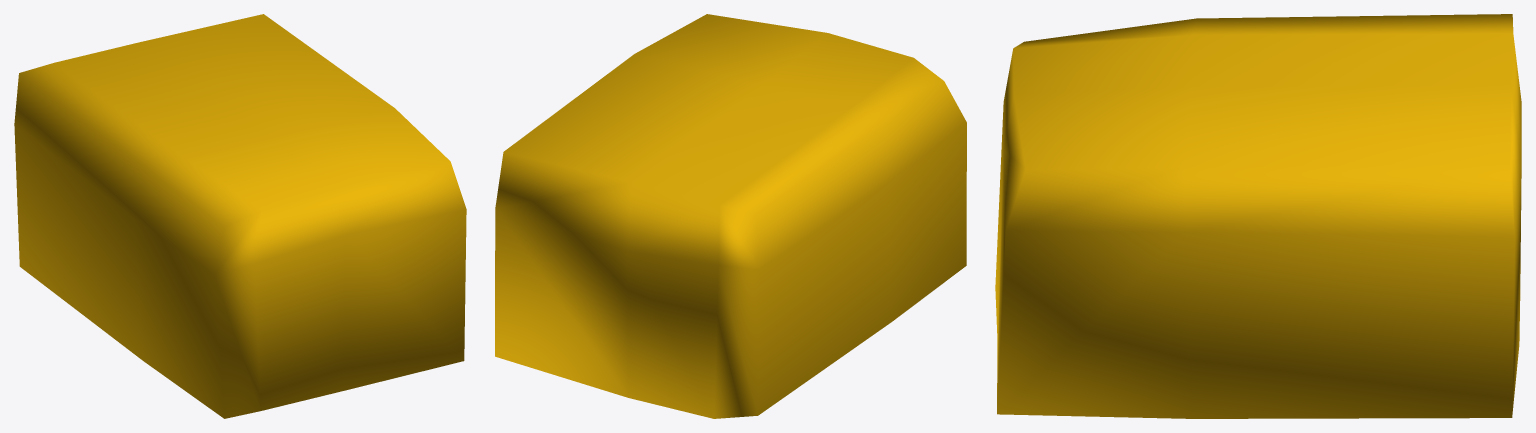
Rendered from Brick_02_Lod0.fbx.
3 renders of one model, left to right at view 1: azimuth 30°, elevation 25°; view 2: azimuth 150°, elevation 25°; view 3: azimuth 270°, elevation 25°, orthographic. The views are drawn at different scales.
Parts seen in each view (by area): view 1: Brick_02_Lod0; view 2: Brick_02_Lod0; view 3: Brick_02_Lod0.
Boxes of the visible parts, left/top/right/bottom form: Brick_02_Lod0: left=14, top=14, right=466, bottom=418; Brick_02_Lod0: left=495, top=14, right=966, bottom=418; Brick_02_Lod0: left=995, top=14, right=1521, bottom=418.
Bounding box in the file's own units: 176 × 137 × 247.
